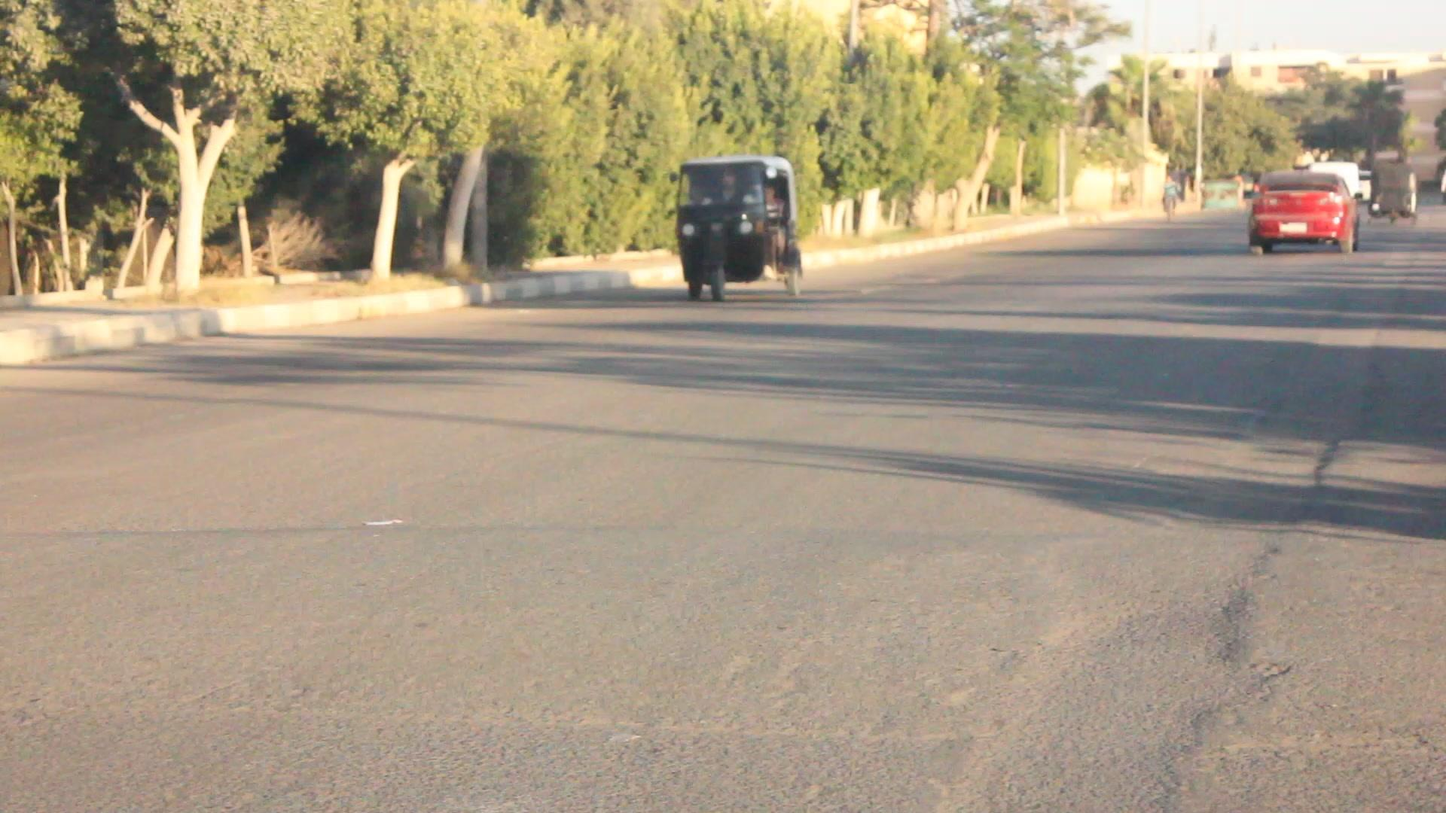Pothole: (1020, 553, 1226, 805)
